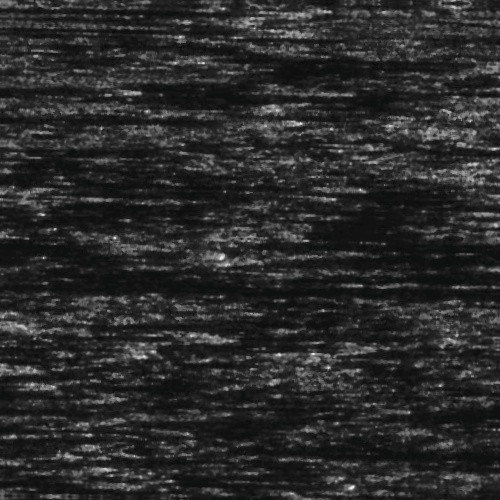object: (207, 14, 342, 47), (217, 0, 322, 27), (191, 116, 326, 125), (60, 392, 165, 401), (81, 479, 154, 488), (158, 331, 251, 338), (238, 97, 291, 108), (368, 401, 441, 408), (454, 55, 500, 64), (0, 381, 46, 390), (102, 87, 155, 94), (293, 182, 366, 187), (287, 193, 350, 198)
shadow: (18, 0, 269, 27), (75, 14, 275, 47), (244, 280, 500, 293), (0, 86, 500, 91), (23, 116, 258, 125), (252, 55, 480, 64), (371, 237, 500, 248), (105, 182, 330, 187), (0, 479, 117, 488), (169, 97, 264, 108), (0, 392, 112, 401), (0, 87, 128, 94), (298, 401, 405, 408), (183, 193, 318, 198), (109, 331, 204, 338), (407, 488, 500, 495), (481, 142, 500, 153)
